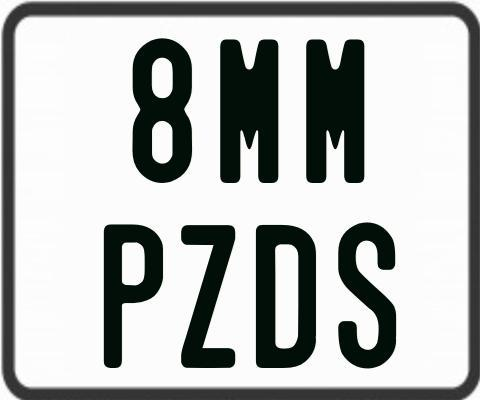8: (132, 38, 198, 186)
D: (255, 224, 317, 369)
M: (305, 36, 368, 181), (220, 36, 281, 181)
P: (104, 223, 166, 372)
S: (338, 221, 402, 370)
Z: (181, 222, 241, 369)
